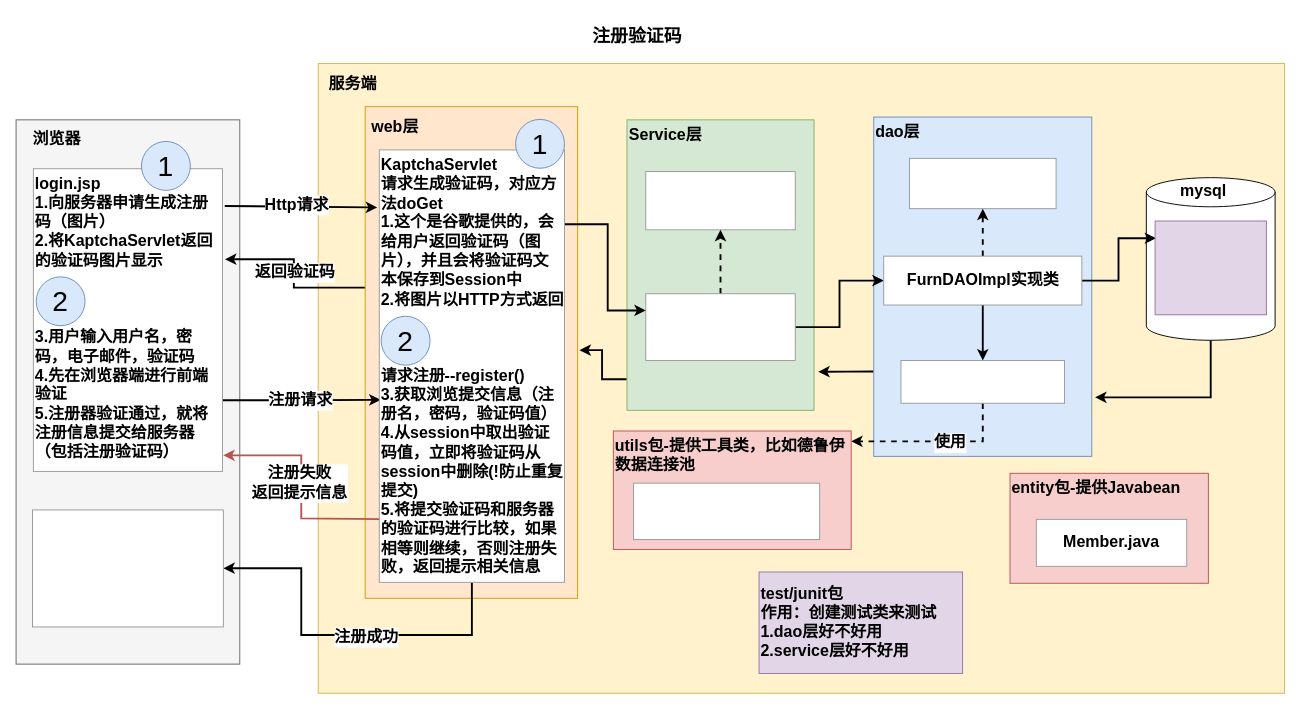
Image size: 1302x710. Some labels were removed from this diagram. The centre of each missing label's shape, as x and y in pixels:
BasicDAO[基础DAO]: pixel 982 381
FurnDAO接口: pixel 982 183
FurnService.java [接口]: pixel 720 200
FurnServiceImpl .java实现类：: pixel 720 326
JDBCUtilsDruid.java: pixel 726 511
Member表 id username password email: pixel 1210 267
register_ok.jsp 注册成功: pixel 127 568
